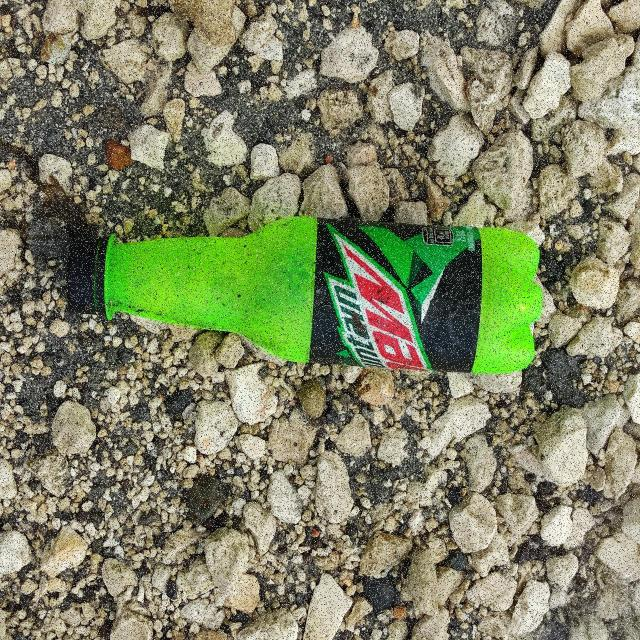plastic_waste: (69, 219, 548, 381)
